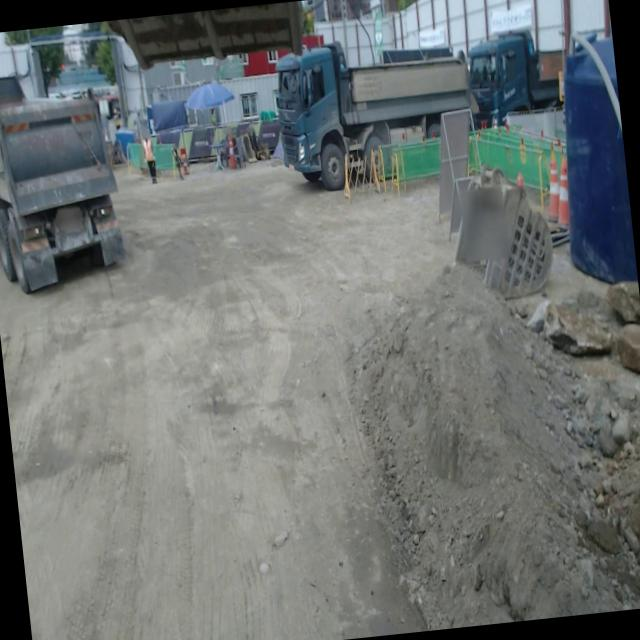stone: (544, 303, 614, 355), (607, 281, 640, 324), (615, 324, 640, 372)
white-sand: (0, 165, 444, 640), (348, 267, 640, 630)
